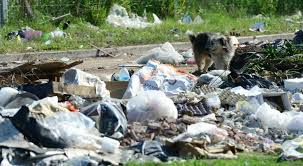rubble: (1, 58, 298, 162)
